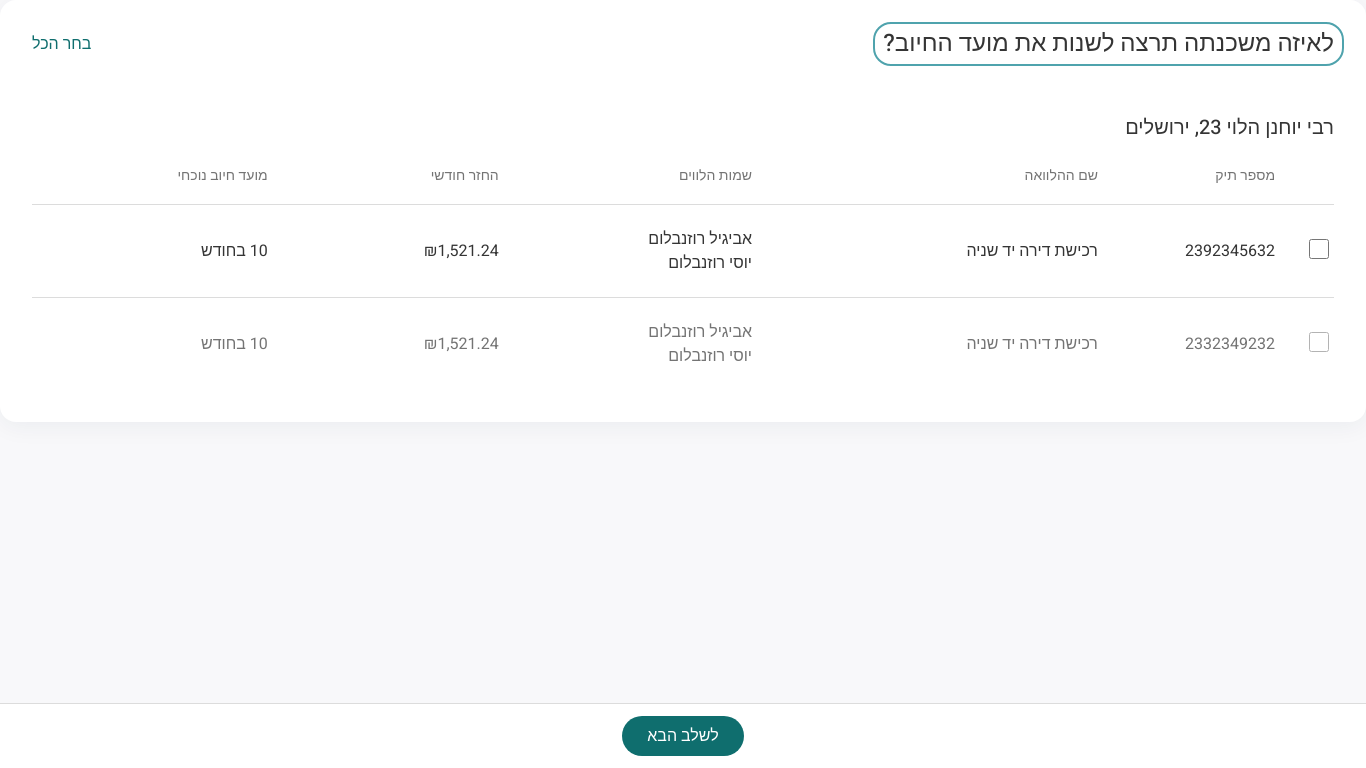
Test: StepSelectMortgages › a mortgage with an open request cannot be selected and says why
Click the checkbox labelled "2332349232".
click(1319, 342)  # box 1309,332 -> 1329,352
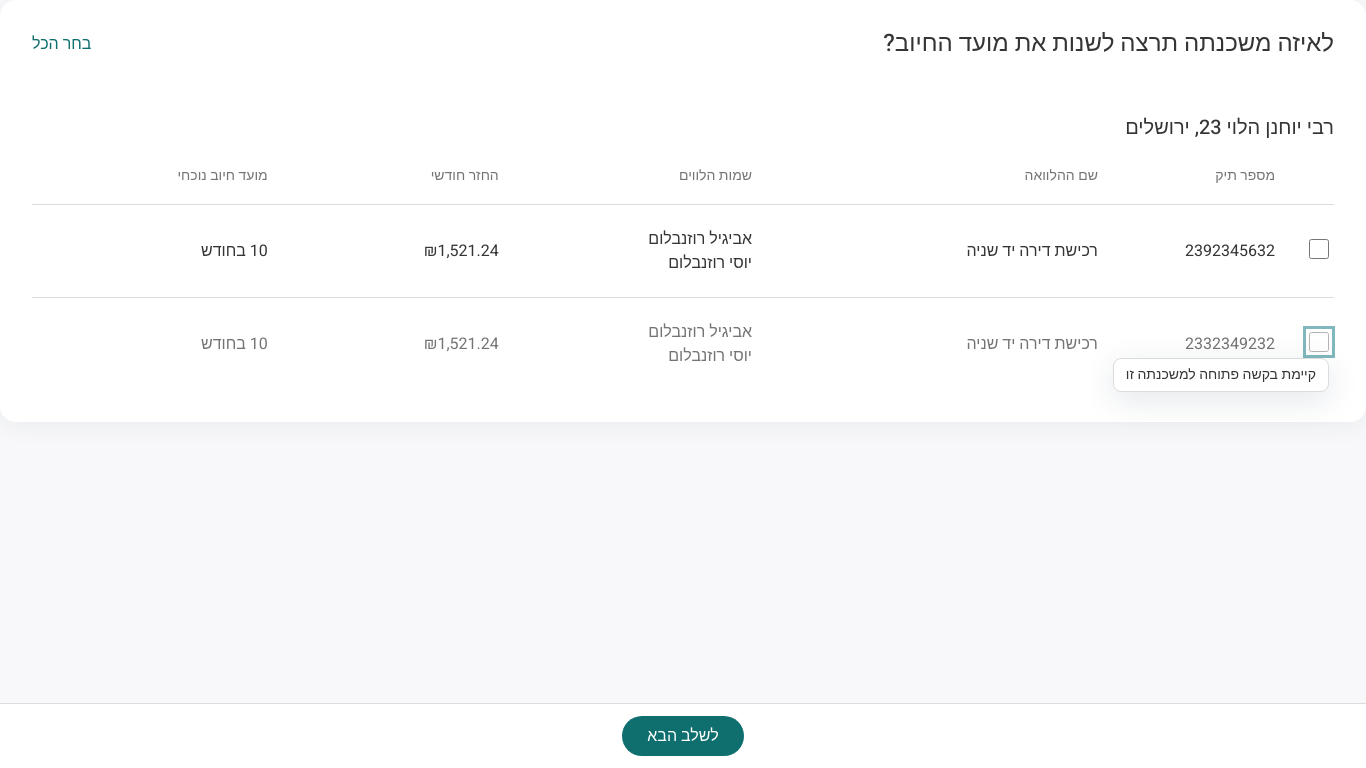
Click the button "בחר הכל".
click(62, 44)  # box 32,34 -> 91,54
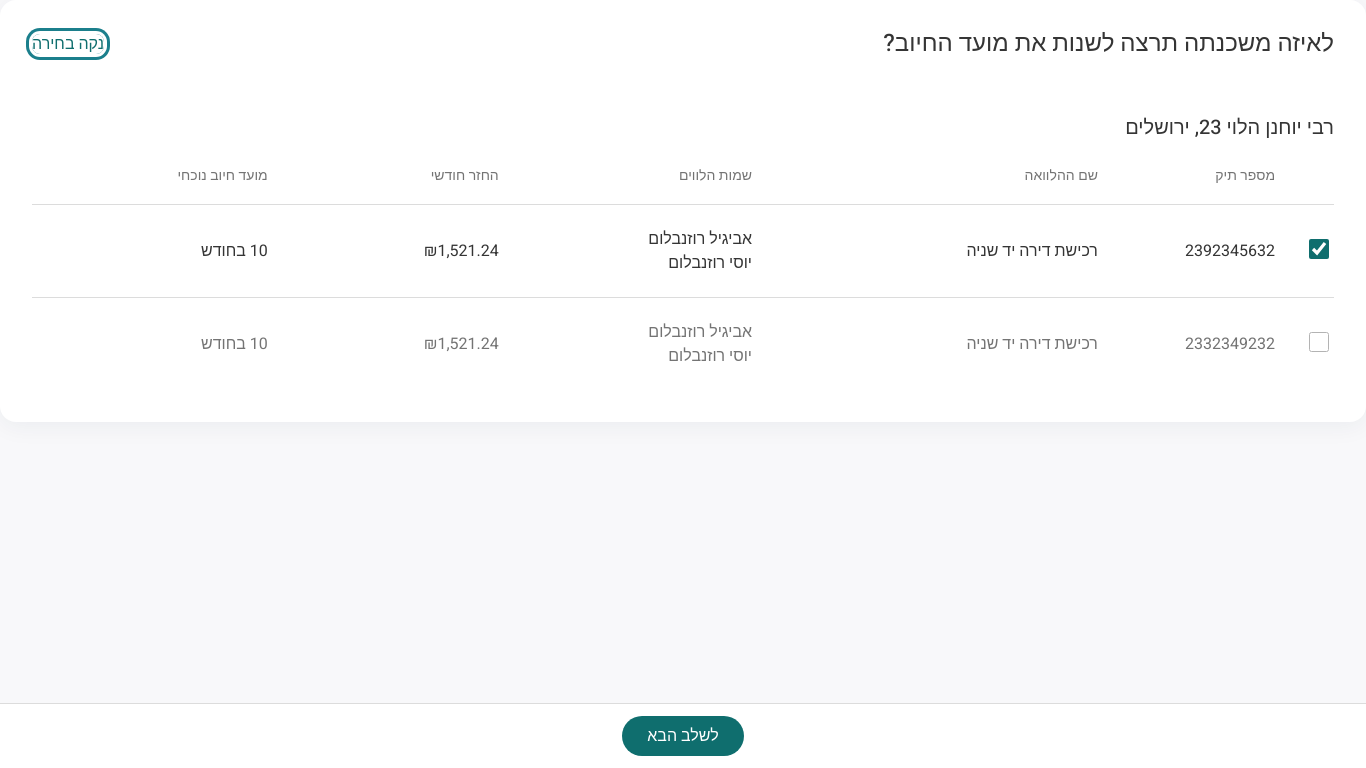
Expected: the checkbox labelled "2332349232" is not checked, 1309,332 -> 1329,352
Result: the checkbox labelled "2392345632" is checked at 1309,238 -> 1329,258
